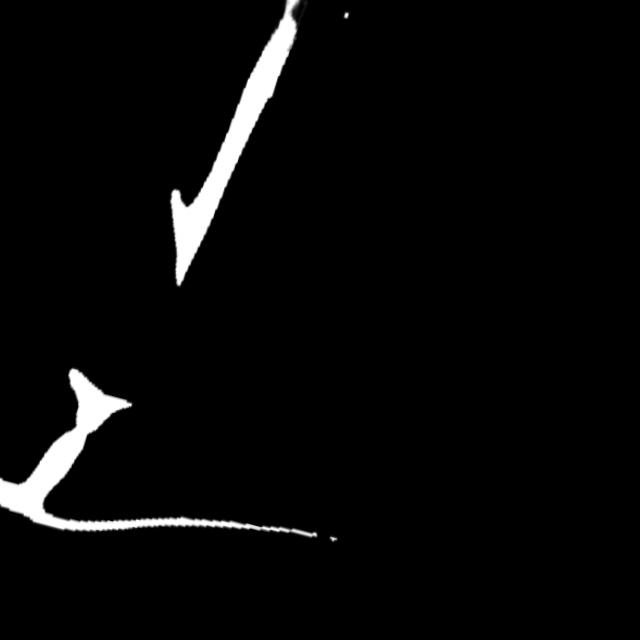sl: (263, 0, 317, 50)
